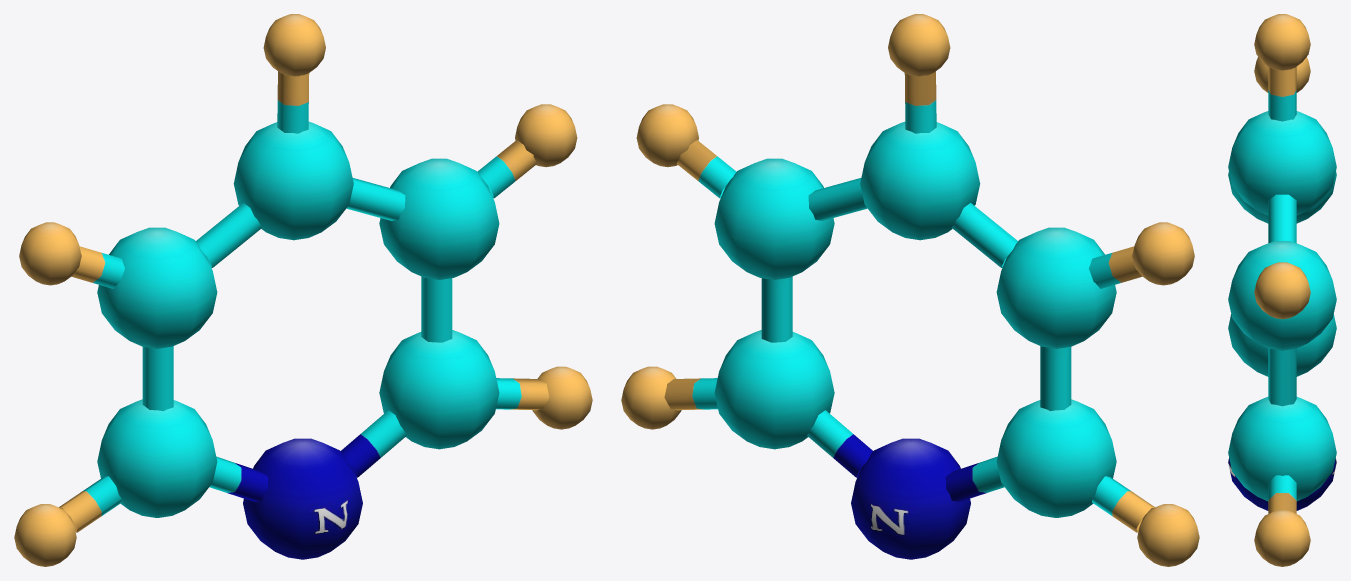
Rendered from Pyridine.dae.
The picture shows the model from 3 angles, left to right: view 1: azimuth 30°, elevation 25°; view 2: azimuth 150°, elevation 25°; view 3: azimuth 270°, elevation 25°; orthographic projection. The views are drawn at different scales.
Parts seen in each view (by area): view 1: polySurface47; view 2: polySurface47; view 3: polySurface47.
Boxes of the visible parts, <box> form: polySurface47: <box>14,14,592,566</box>; polySurface47: <box>621,14,1199,566</box>; polySurface47: <box>1228,14,1336,566</box>.
Size of the model in its own units: 9.35 by 8.47 by 1.71.
1 material, 1 textured.
